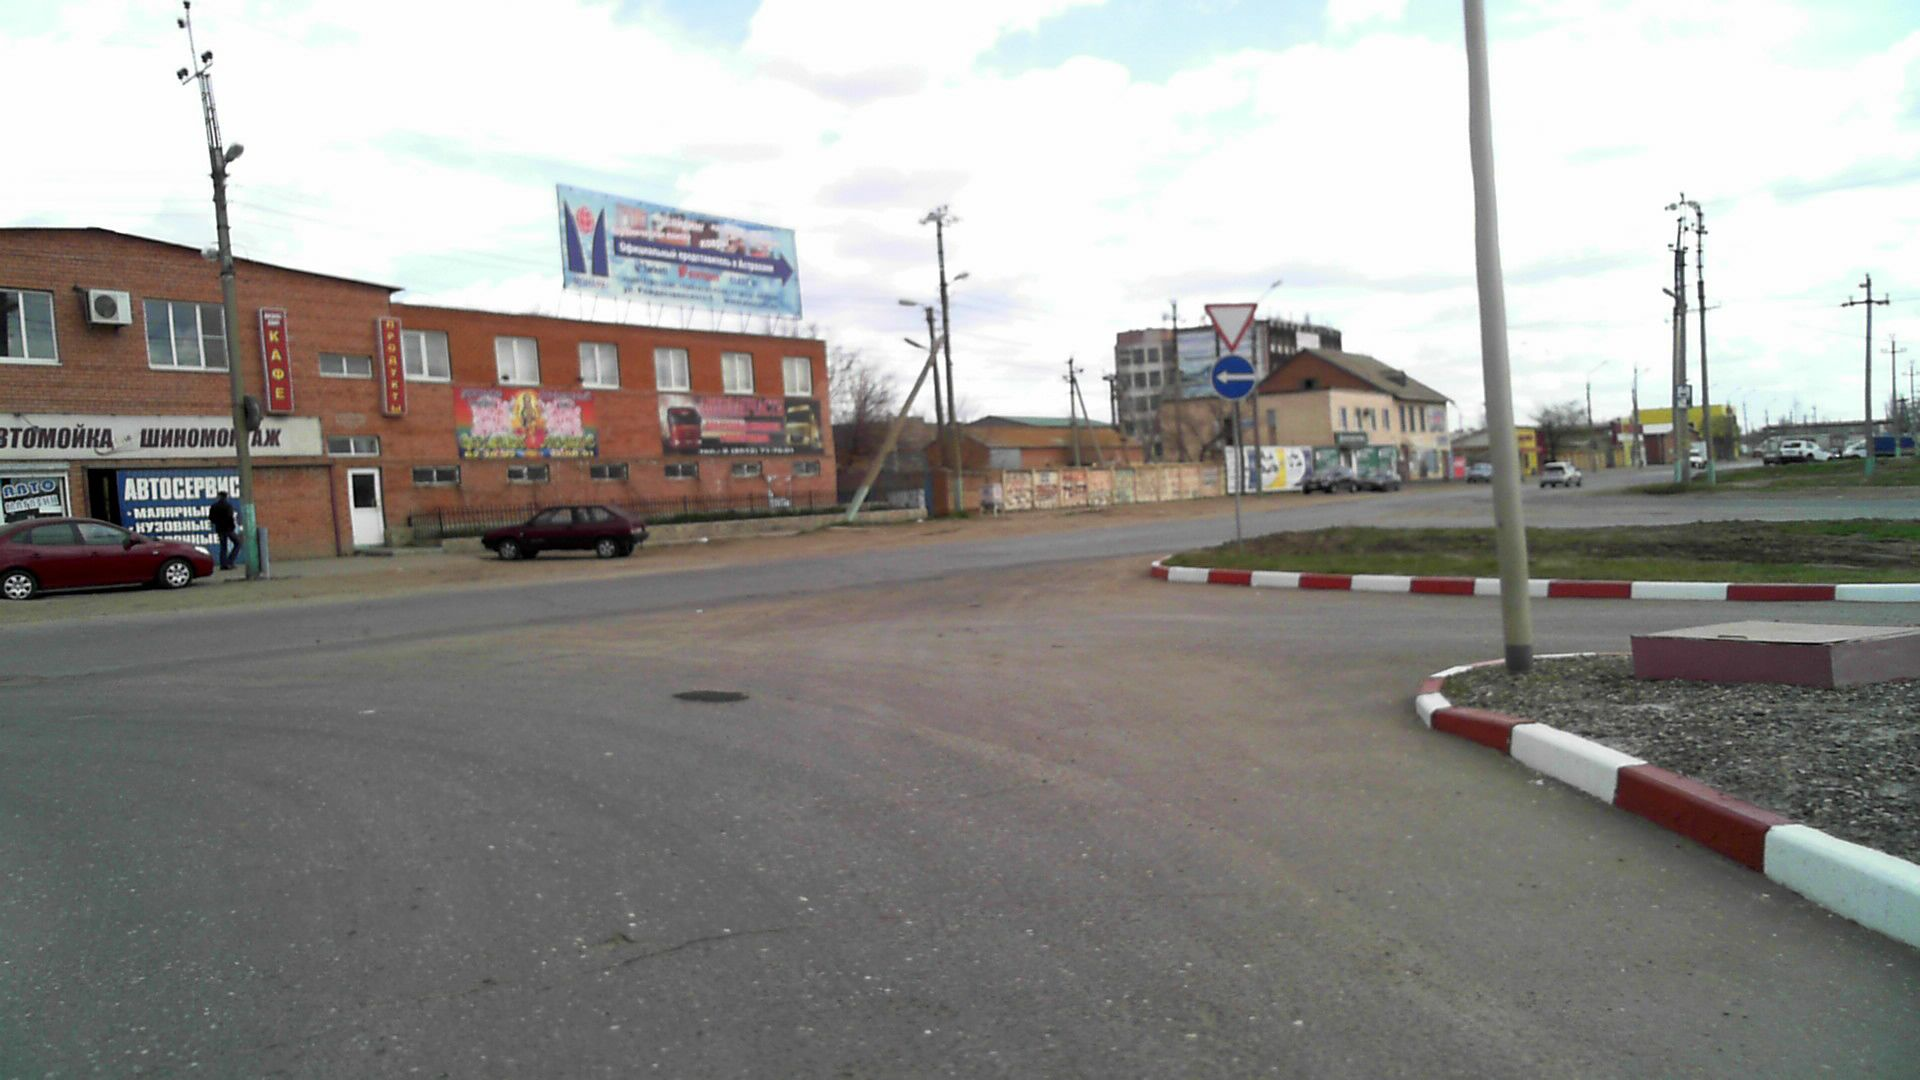Turn Left: (1211, 355, 1255, 400)
